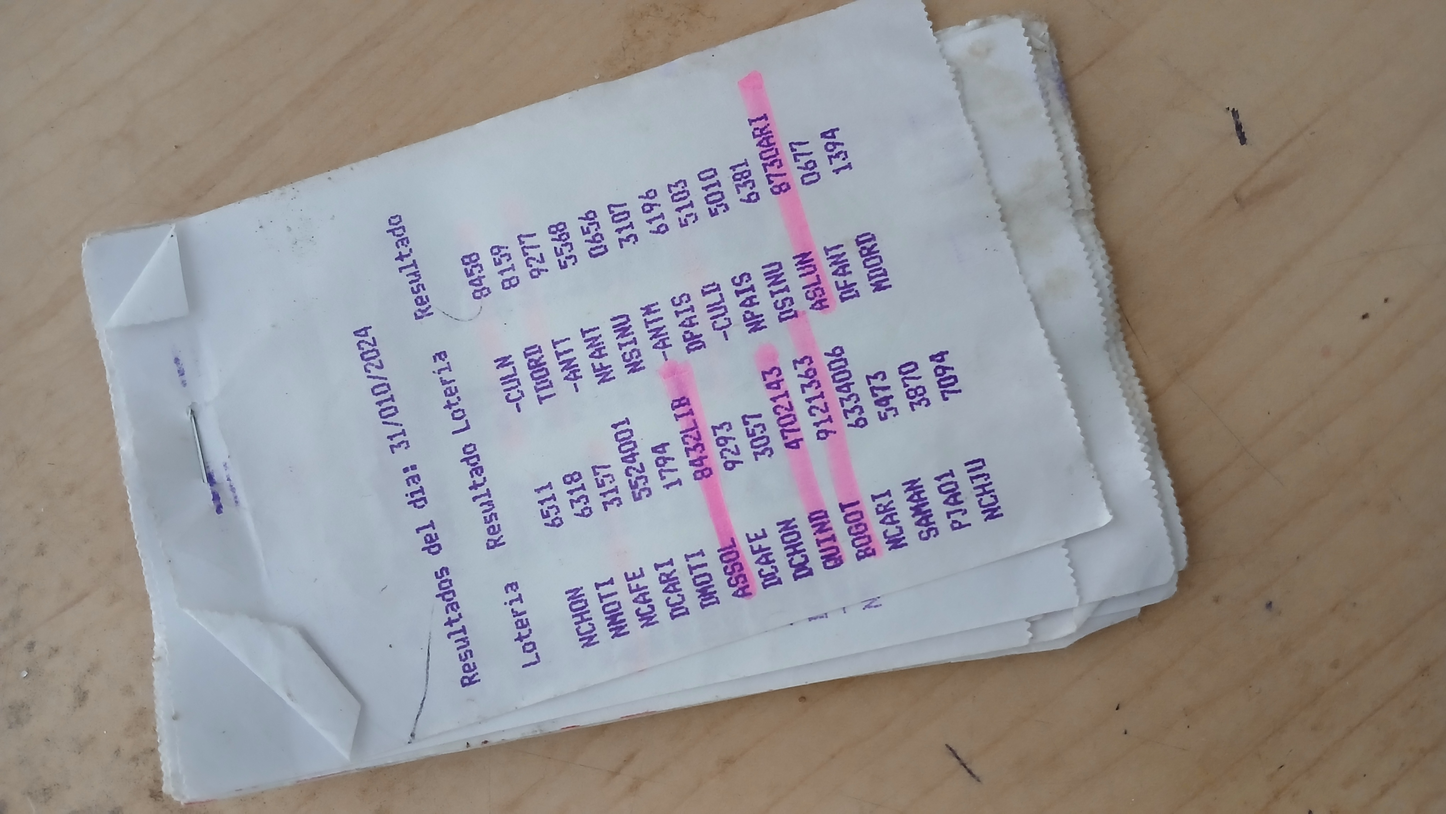Papel: (84, 0, 1193, 807)
